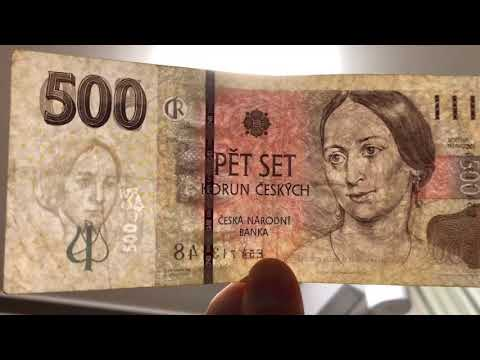czech_koruna_500: (6, 51, 480, 288)
